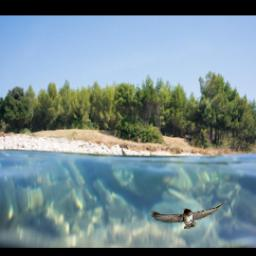Swallow: (149, 202, 226, 230)
